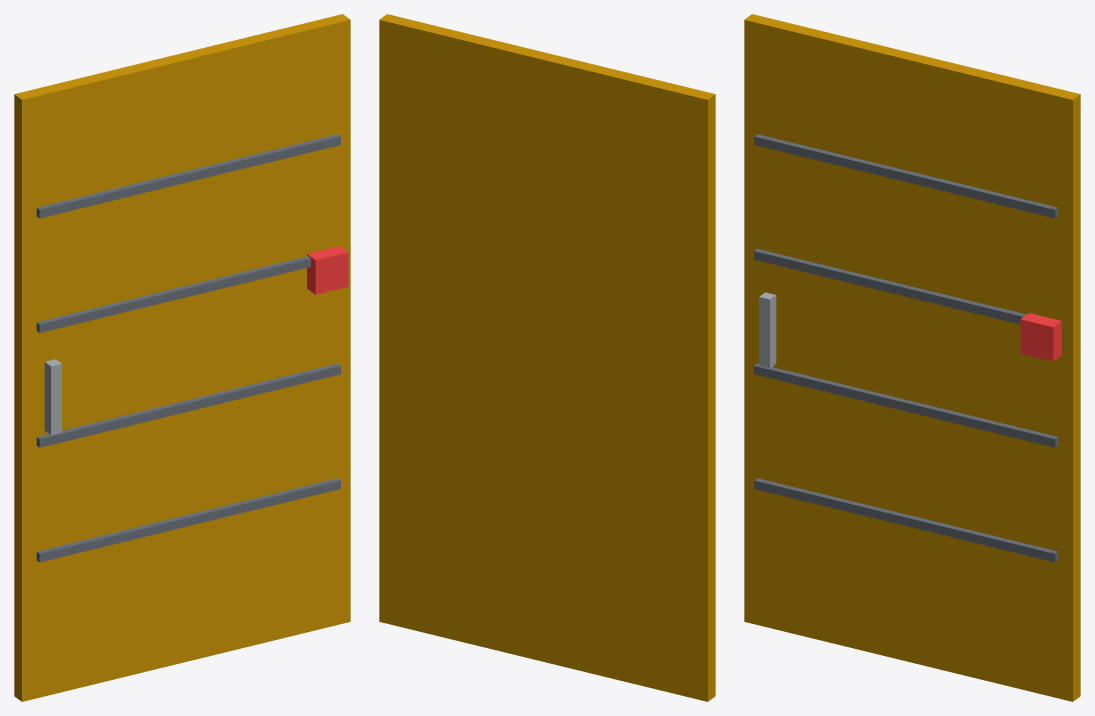
3 renders of one model, left to right at view 1: azimuth 30°, elevation 25°; view 2: azimuth 150°, elevation 25°; view 3: azimuth 330°, elevation 25°, orthographic.
Parts seen in each view (by area): view 1: gate, gate:bar:3, gate:bar:0, gate:bar:1, gate:bar:2, interlock, gate:handle; view 2: gate; view 3: gate, gate:bar:3, gate:bar:0, gate:bar:1, gate:bar:2, interlock, gate:handle.
Part boxes in pixels (x1,y1,x2,y2): gate: (14, 14, 350, 701); gate:bar:3: (36, 134, 340, 218); gate:bar:0: (36, 478, 340, 562); gate:bar:1: (36, 363, 340, 447); gate:bar:2: (36, 256, 310, 332); interlock: (307, 246, 348, 294); gate:handle: (44, 359, 61, 435); gate: (379, 14, 715, 701); gate: (744, 14, 1080, 701); gate:bar:3: (754, 134, 1058, 218); gate:bar:0: (754, 478, 1058, 562); gate:bar:1: (754, 363, 1058, 447); gate:bar:2: (754, 249, 1026, 324); interlock: (1020, 313, 1061, 361); gate:handle: (759, 292, 776, 368).
Bounding box in the file's own units: 1.2 × 2.1 × 0.105.
